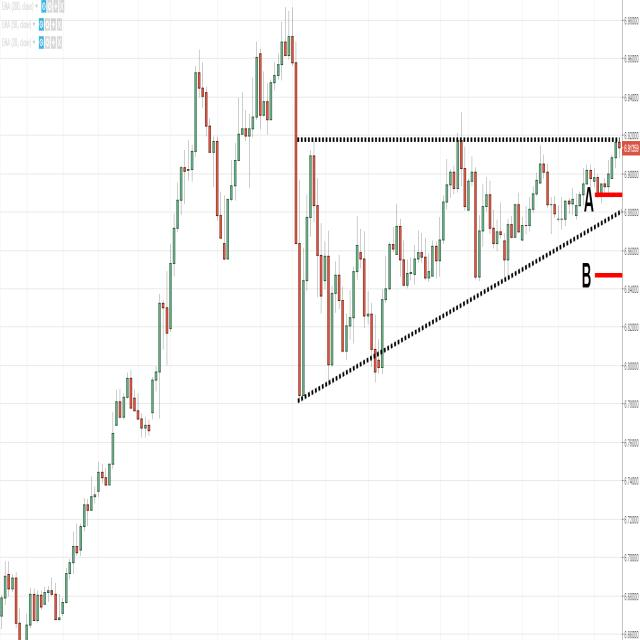Ascending-Triangle: (293, 141, 627, 409)
